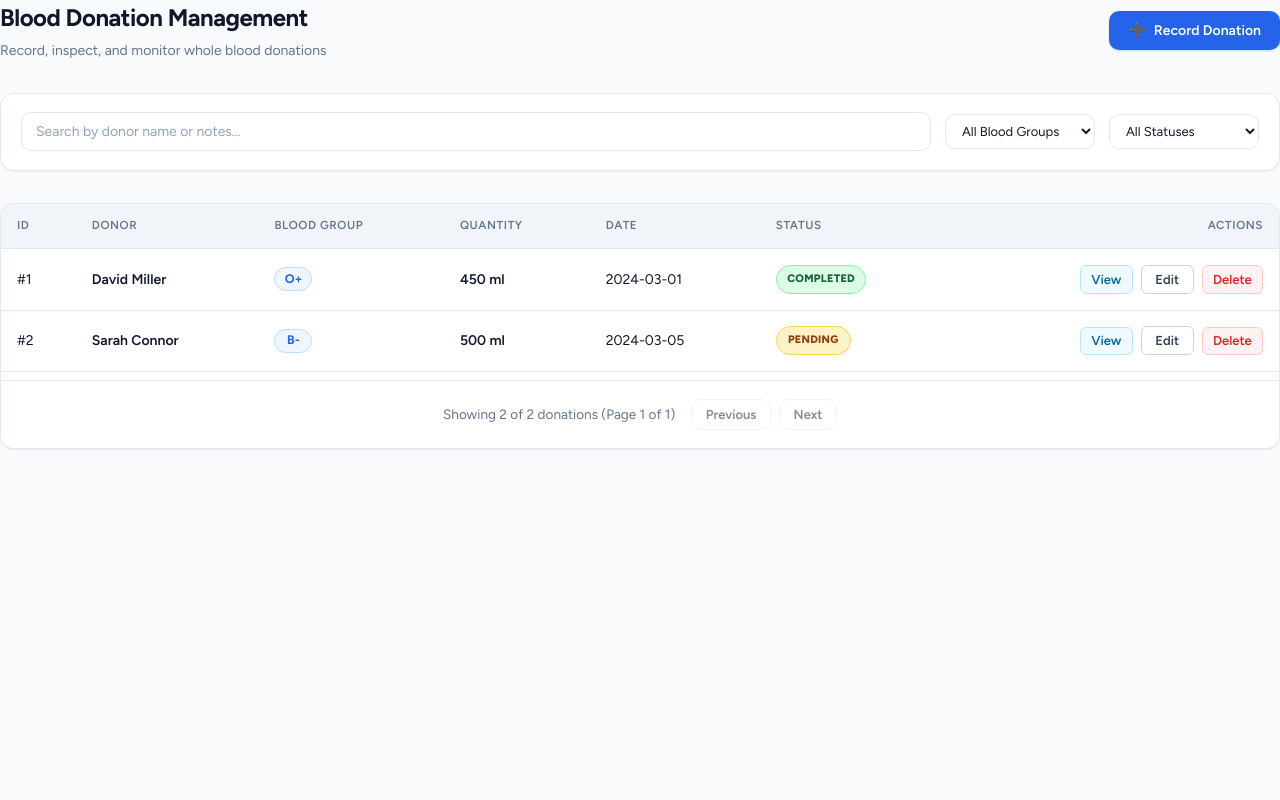
Scenario: Donations Page Component › opens details modal when View action is clicked
Step 1. Click the button with test id "view-donation-1" → (1106, 279), box [1080,265,1133,294]
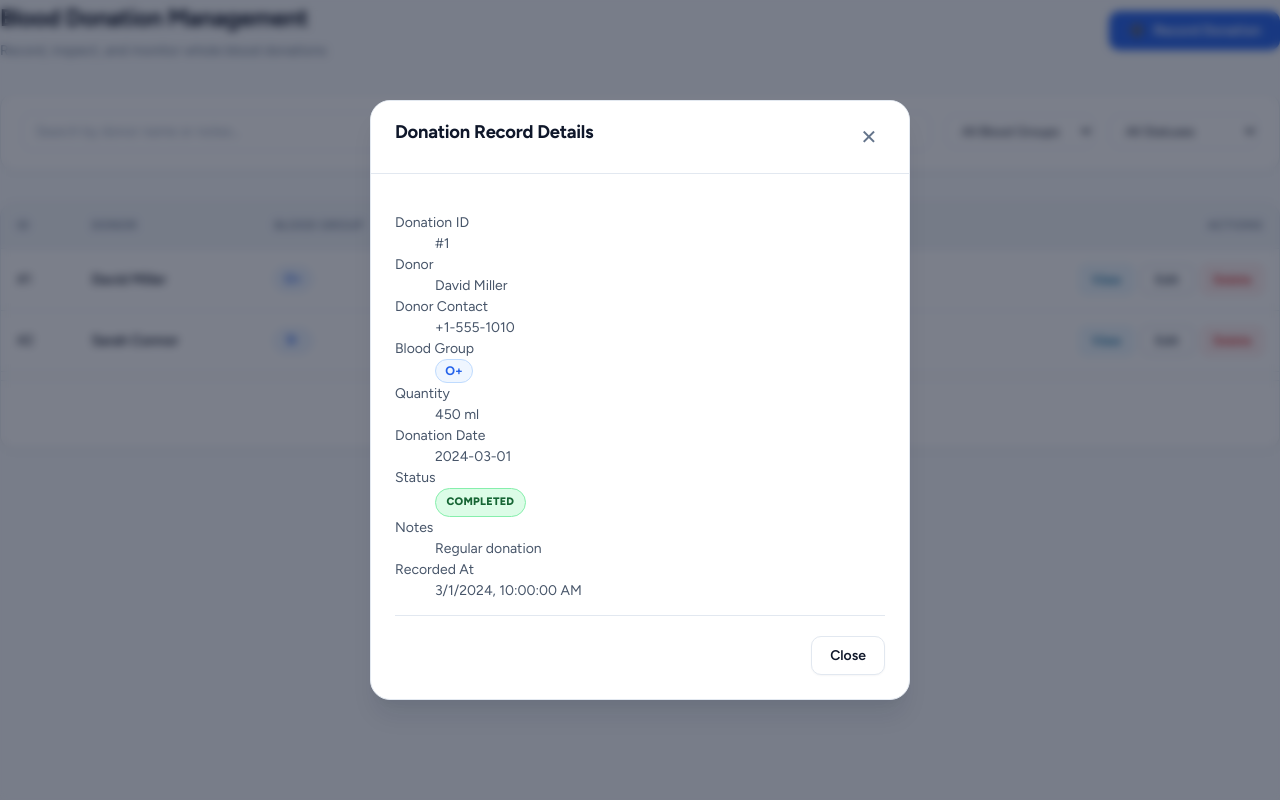
Expected: the element with test id "donation-detail-modal" is shown
Expected: the text with test id "detail-donor-name" reads "David Miller", [435,277,508,294]
